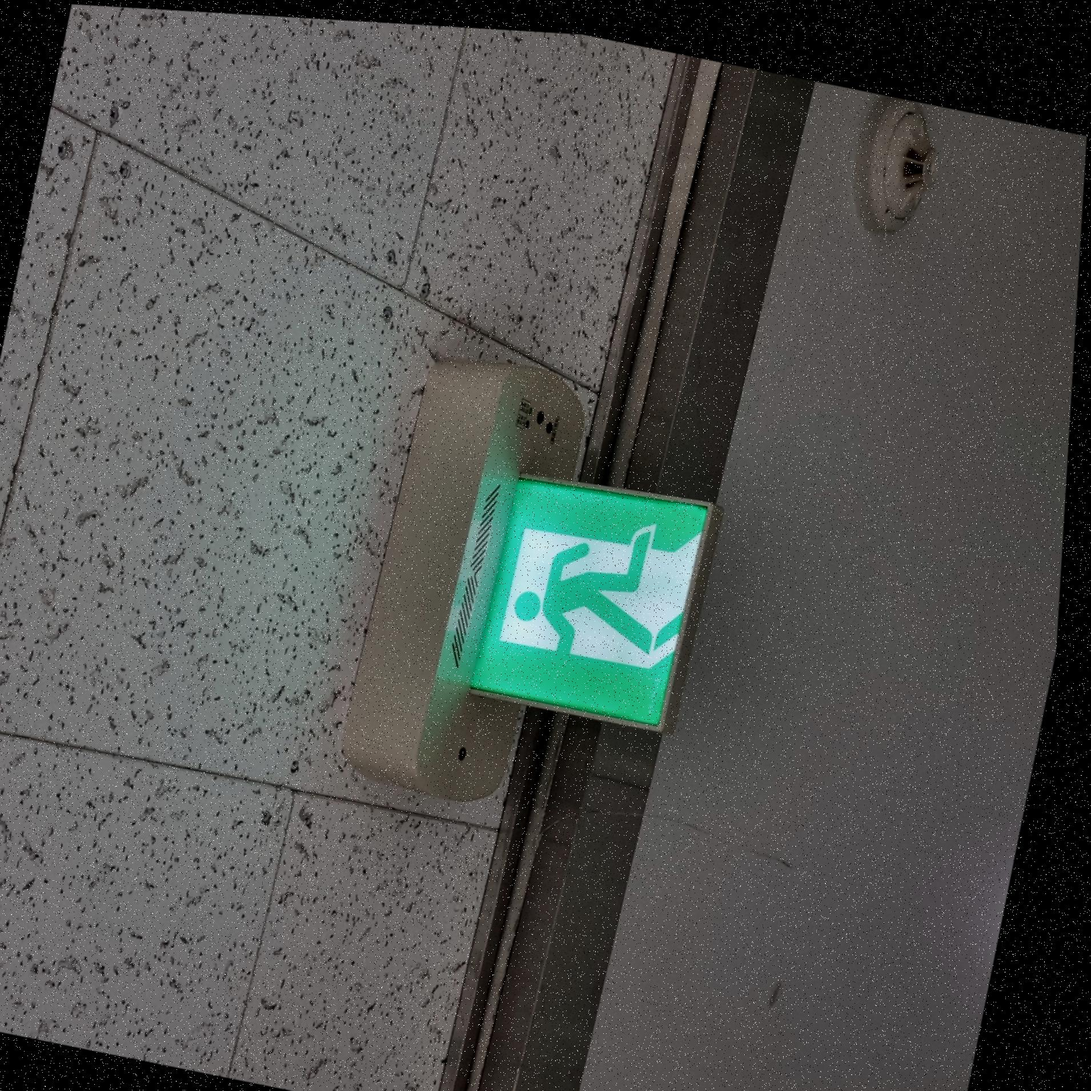emergency_exit: (448, 471, 721, 734)
